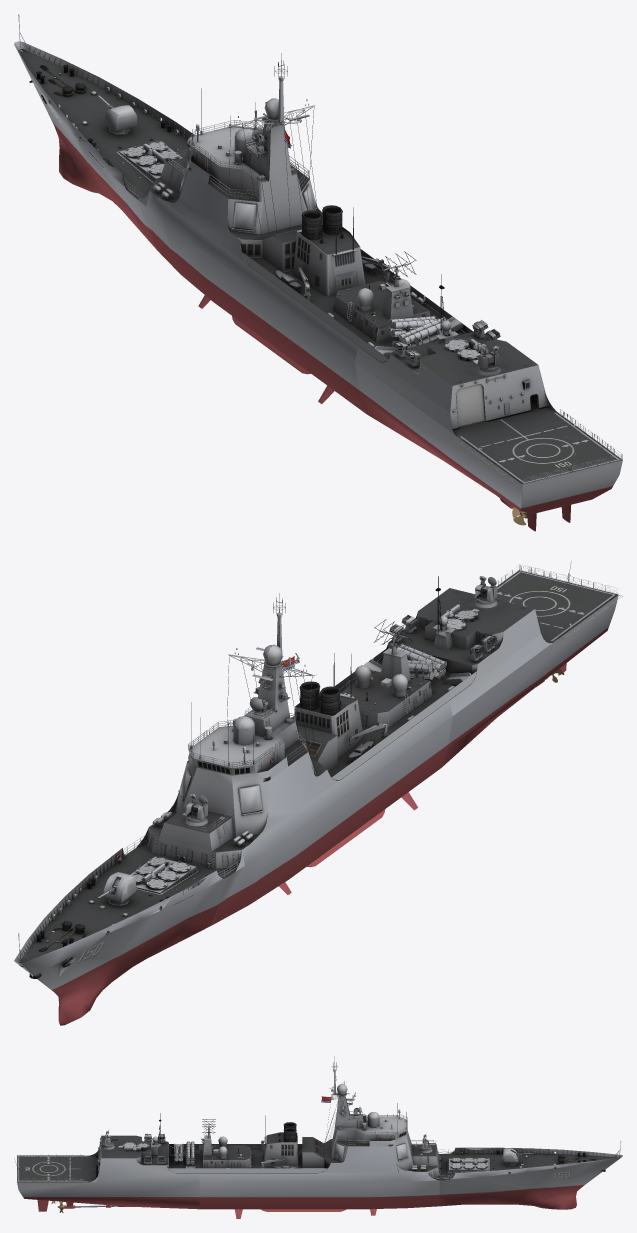
The model's file is type_052c.glb.
The picture shows the model from 3 angles, top to bottom: view 1: azimuth 30°, elevation 25°; view 2: azimuth 150°, elevation 25°; view 3: azimuth 270°, elevation 25°; orthographic projection. The views are drawn at different scales.
Parts seen in each view (by area): view 1: Object_24, Object_22, Object_11, Object_19, Object_12, Object_26, Object_23, Object_3; view 2: Object_24, Object_22, Object_11, Object_19, Object_12, Object_26, Object_23, Object_7; view 3: Object_19, Object_22, Object_12, Object_11, Object_24, Object_26, Object_7, Object_13, Object_23.
Boxes of the visible parts, bbox=[...] form: Object_24: bbox=[135, 53, 404, 413]; Object_22: bbox=[355, 274, 622, 513]; Object_11: bbox=[14, 41, 290, 249]; Object_19: bbox=[214, 98, 451, 368]; Object_12: bbox=[17, 14, 500, 375]; Object_26: bbox=[198, 295, 575, 531]; Object_23: bbox=[457, 320, 622, 485]; Object_3: bbox=[400, 316, 451, 347]; Object_24: bbox=[184, 593, 452, 925]; Object_22: bbox=[364, 570, 618, 767]; Object_11: bbox=[17, 656, 294, 1025]; Object_19: bbox=[135, 637, 397, 901]; Object_12: bbox=[14, 576, 497, 1021]; Object_26: bbox=[279, 623, 571, 894]; Object_23: bbox=[389, 561, 622, 642]; Object_7: bbox=[130, 856, 198, 894]; Object_19: bbox=[199, 1084, 439, 1209]; Object_22: bbox=[17, 1113, 199, 1209]; Object_12: bbox=[102, 1094, 622, 1209]; Object_11: bbox=[321, 1096, 622, 1167]; Object_24: bbox=[199, 1056, 439, 1166]; Object_26: bbox=[37, 1155, 376, 1218]; Object_7: bbox=[447, 1158, 489, 1172]; Object_13: bbox=[174, 1141, 194, 1165]; Object_23: bbox=[14, 1154, 165, 1181].
Bounding box in the file's own units: 16.89 × 43.73 × 155.
20 materials, 19 textured.
